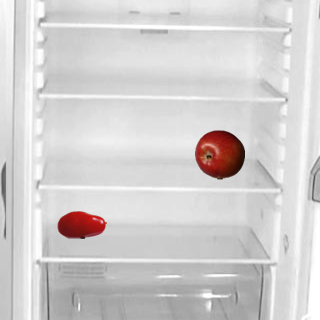Apple Braeburn: (194, 129, 244, 179)
Tomato 2: (56, 199, 106, 249)
